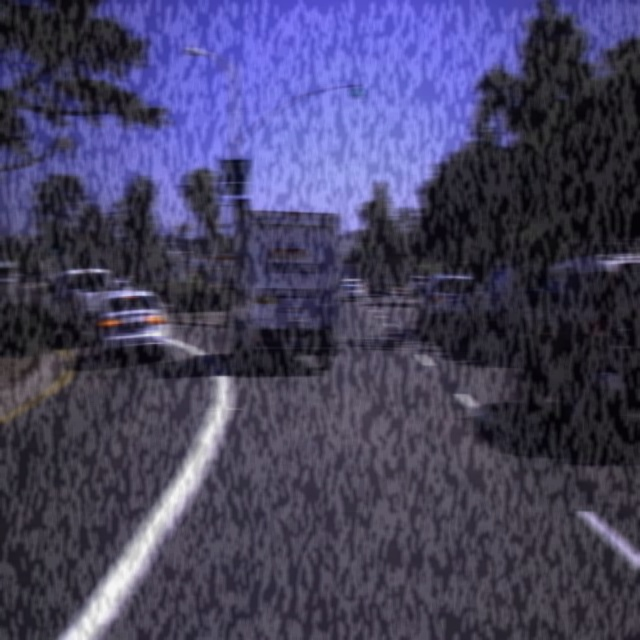go forward: (350, 59, 364, 103), (50, 232, 60, 255)
go forward traffic light: (350, 59, 364, 103), (50, 232, 60, 255)
